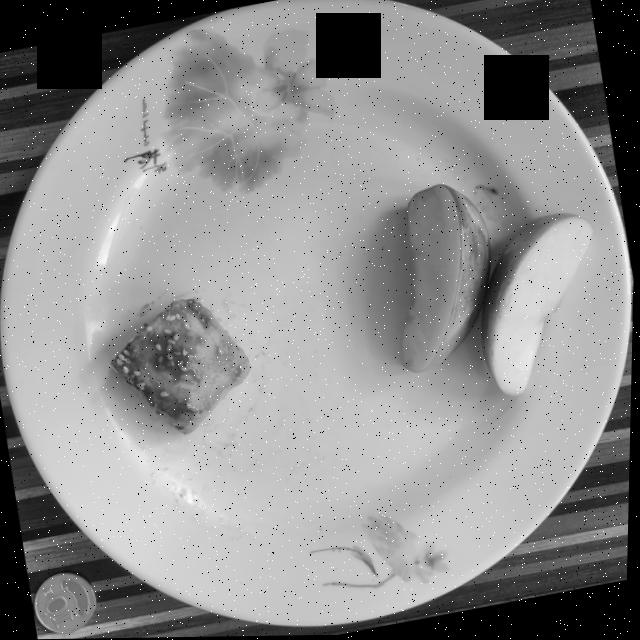apple -sliced-: (402, 184, 594, 397)
coin: (37, 571, 99, 632)
creamy tofu: (112, 297, 252, 433)
